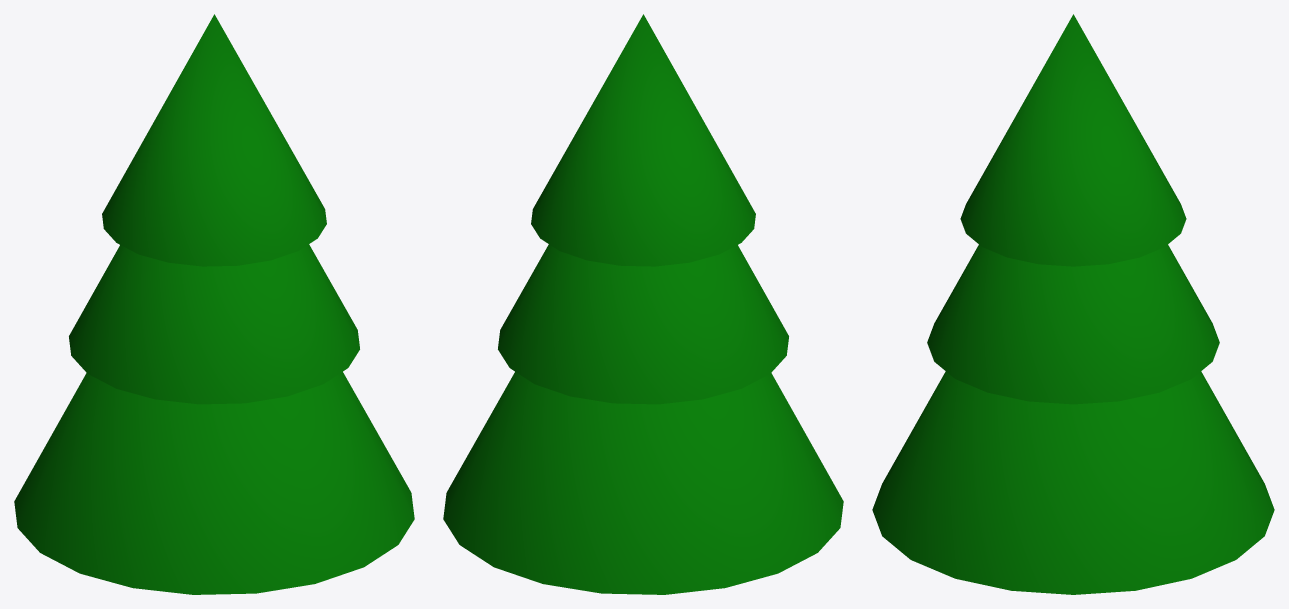
File: sapinnue.fbx
The picture shows the model from 3 angles, left to right: view 1: azimuth 30°, elevation 25°; view 2: azimuth 150°, elevation 25°; view 3: azimuth 270°, elevation 25°; orthographic projection.
Visible parts, largest first — view 1: pCylinder4; view 2: pCylinder4; view 3: pCylinder4.
Boxes of the visible parts, x1=… form: pCylinder4: x1=14, y1=14, x2=414, y2=594; pCylinder4: x1=443, y1=14, x2=843, y2=594; pCylinder4: x1=872, y1=14, x2=1274, y2=594.
Size of the model in its own units: 3.27 by 4.87 by 3.27.
